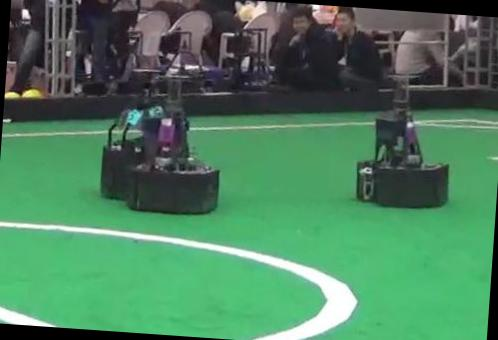robot: (356, 75, 449, 207), (128, 80, 220, 213), (100, 73, 164, 199)
